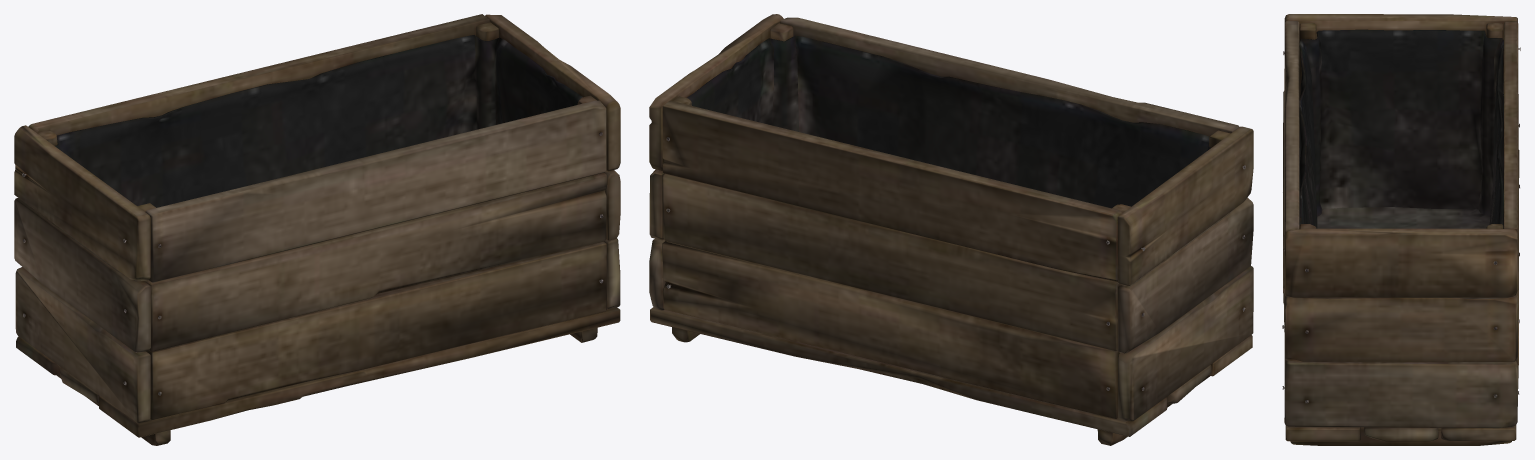
File: planter.glb
3 views of the same model, side by side, from view 1: azimuth 30°, elevation 25°; view 2: azimuth 150°, elevation 25°; view 3: azimuth 270°, elevation 25° (orthographic). The views are drawn at different scales.
Parts seen in each view (by area): view 1: planter_box_01 baked; view 2: planter_box_01 baked; view 3: planter_box_01 baked.
Boxes of the visible parts, x1,y1,x2,y2 form: planter_box_01 baked: (14,14,620,445); planter_box_01 baked: (649,14,1253,445); planter_box_01 baked: (1282,14,1520,445).
Bounding box in the file's own units: 0.9126 × 0.425 × 0.4137.
Materials: 1 (1 with a texture image).
